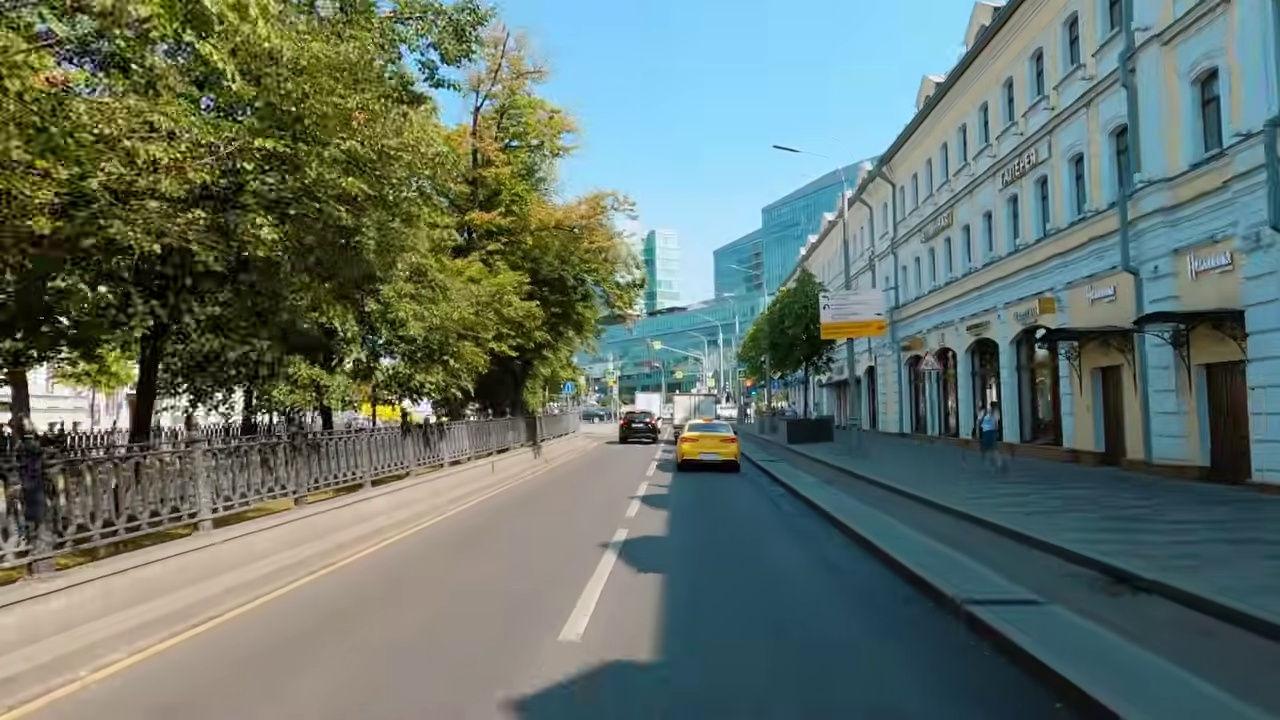apagada: (768, 138, 795, 157)
